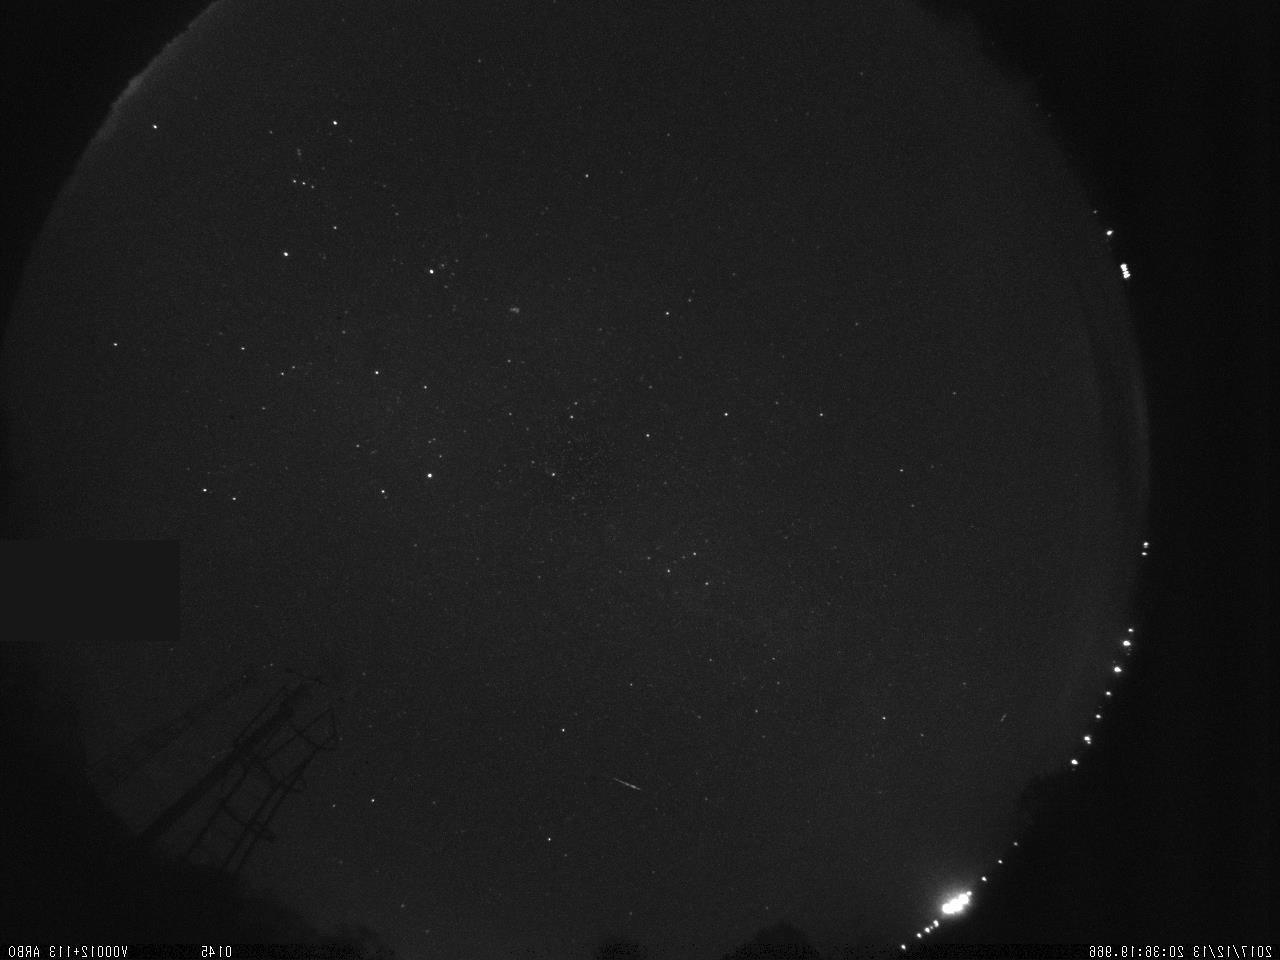meteor: (599, 771, 649, 807)
